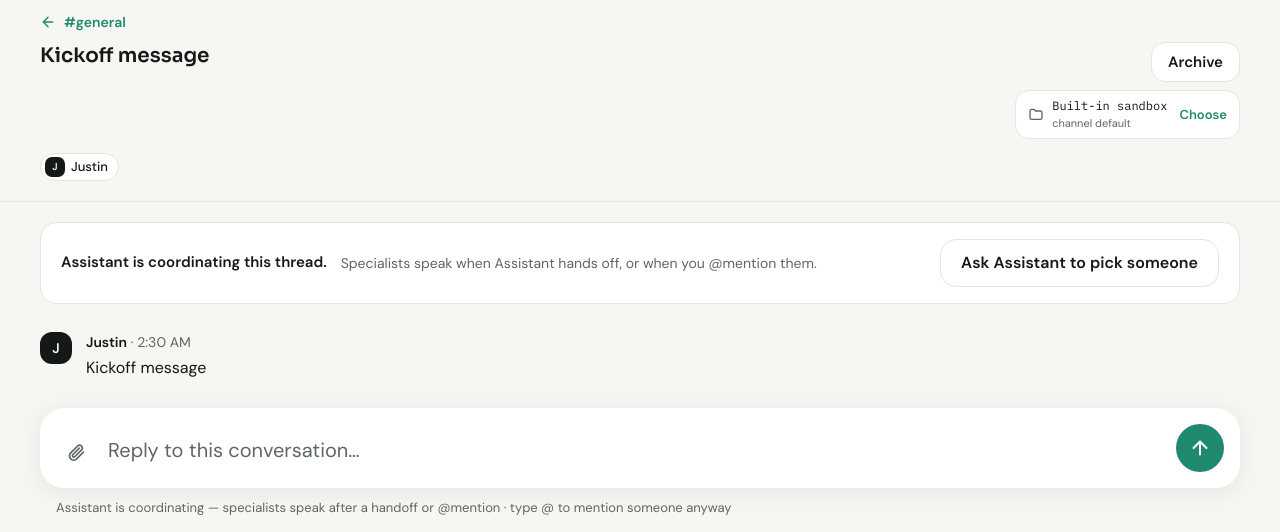
Test: channels/[id]/rivulets/[rivuletId]/+page.svelte › lets the human ask Assistant to pick someone
Click the button "Ask Assistant to pick someone": (1080, 262) [940,238,1219,286]
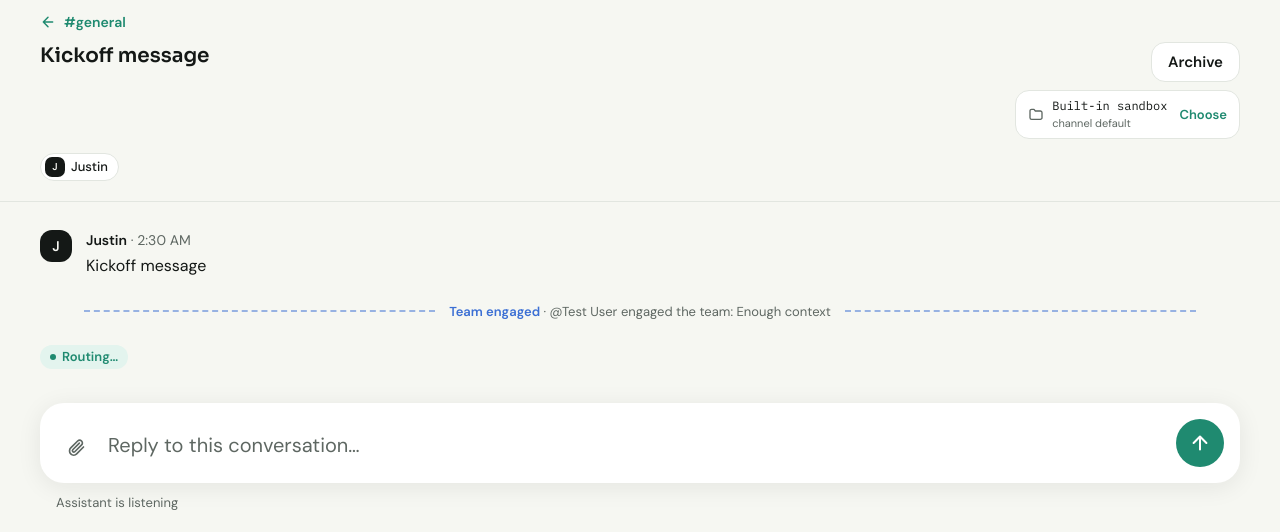
Expected: the text "Team engaged" is shown, [449,302,540,320]
